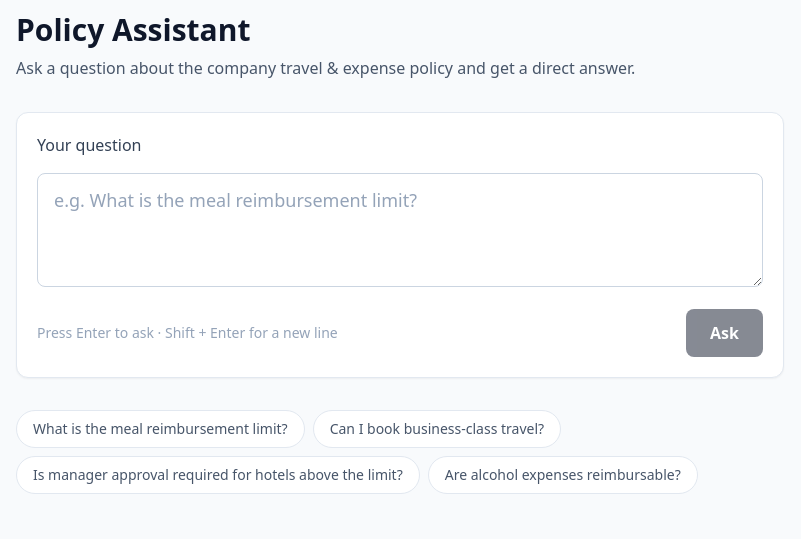
Test: PolicyAssistantPage › renders the confidence badge
Step 1. Type "Hotel limit?" into the text box labelled "Your question" → (400,230), box [37,173,763,287]
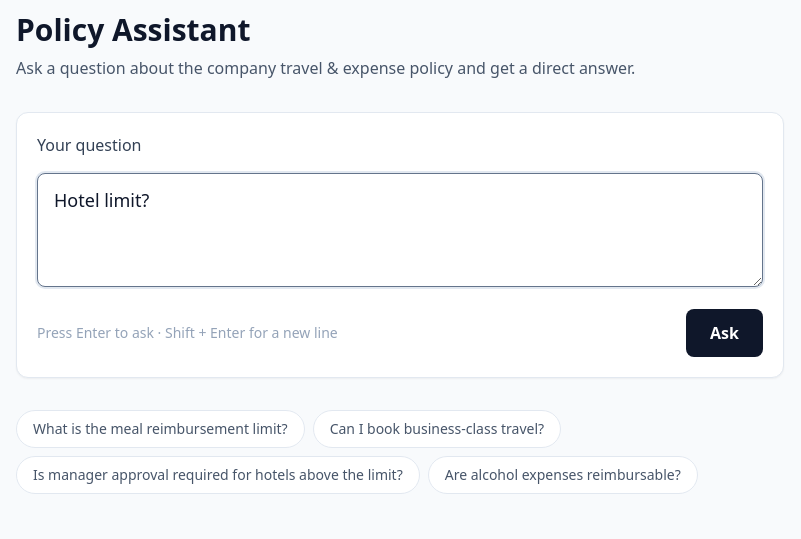
Step 2. Click the button "Ask" → (725,333), box [686,309,763,357]
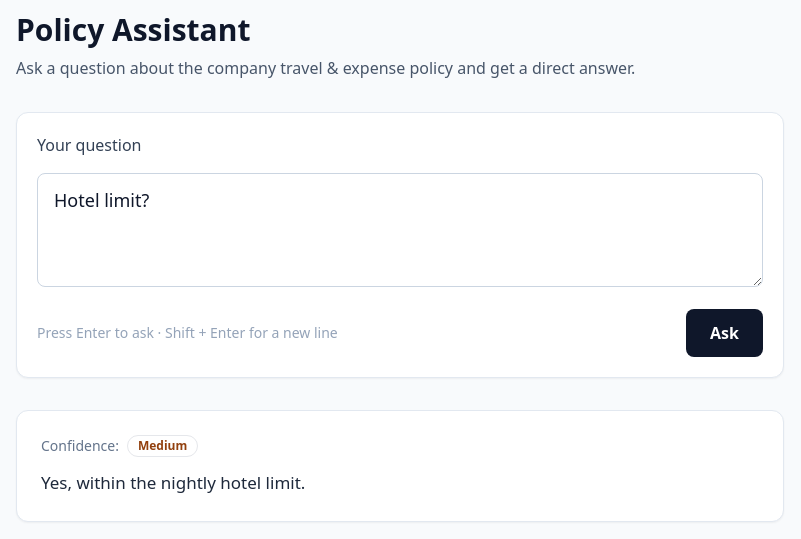
Expected: the text "Yes, within the nightly hotel limit." is shown, [41,471,305,494]
Expected: the text "Confidence:" is shown, [41,436,119,456]
Expected: the text "Medium" is shown, [127,435,198,457]
